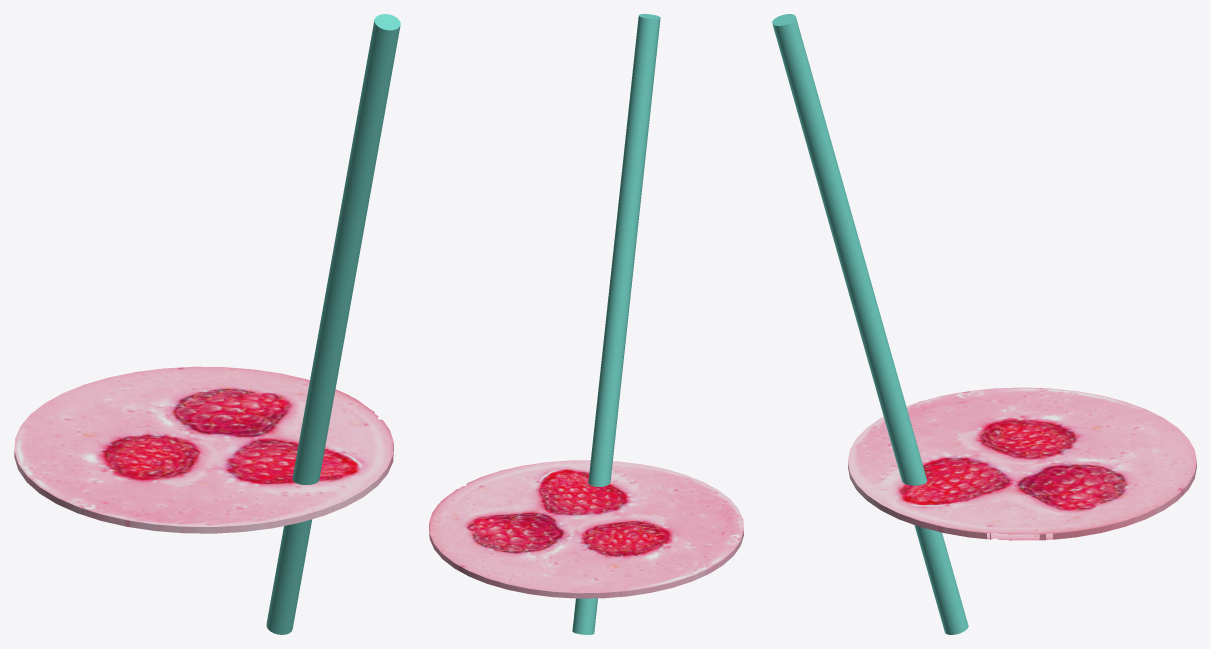
The model's file is LICUADO_CH.fbx.
The picture shows the model from 3 angles, left to right: view 1: azimuth 30°, elevation 25°; view 2: azimuth 150°, elevation 25°; view 3: azimuth 270°, elevation 25°; orthographic projection. The views are drawn at different scales.
Parts seen in each view (by area): view 1: revolvedSurface2; view 2: revolvedSurface2; view 3: revolvedSurface2.
Boxes of the visible parts, x1,y1,x2,y2 form: revolvedSurface2: (14,14,400,634); revolvedSurface2: (429,14,743,634); revolvedSurface2: (772,14,1196,634).
Size of the model in its own units: 6.46 by 12.68 by 7.87.
